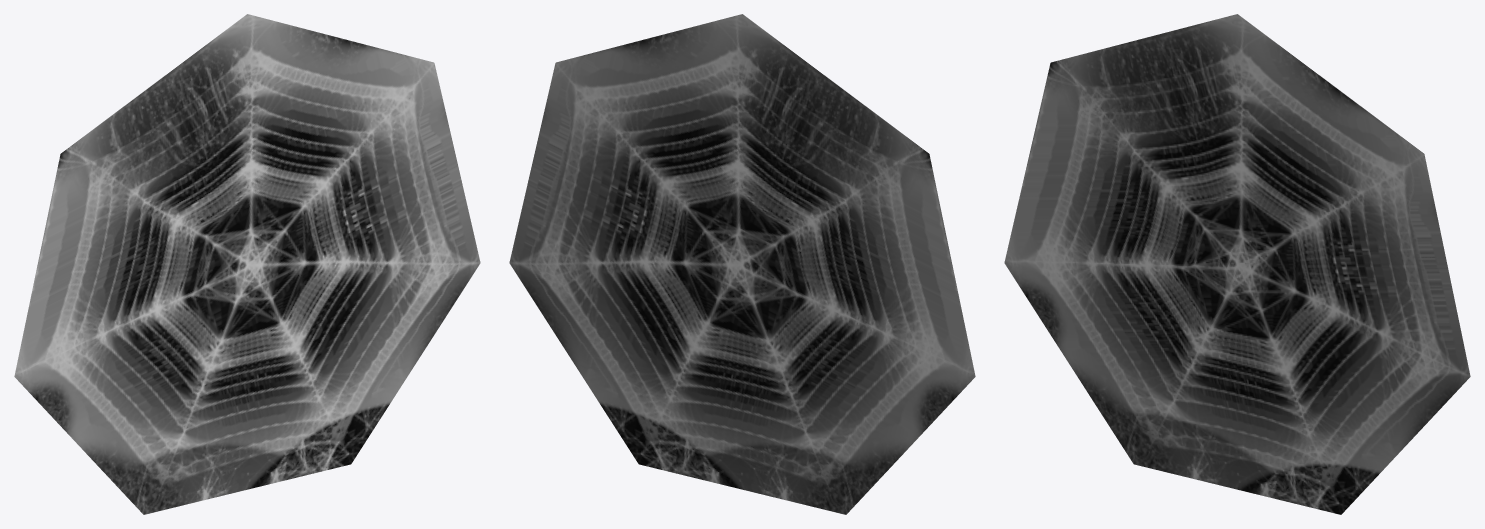
The model's file is Cobweb 02.fbx.
The picture shows the model from 3 angles, left to right: view 1: azimuth 30°, elevation 25°; view 2: azimuth 150°, elevation 25°; view 3: azimuth 330°, elevation 25°; orthographic projection.
Visible parts, largest first — view 1: Cylinder; view 2: Cylinder; view 3: Cylinder.
Part boxes in pixels (<box>): Cylinder: <box>14,14,480,514</box>; Cylinder: <box>509,14,975,514</box>; Cylinder: <box>1004,14,1470,514</box>.
Bounding box in the file's own units: 201 × 196 × 4.18e-05.
